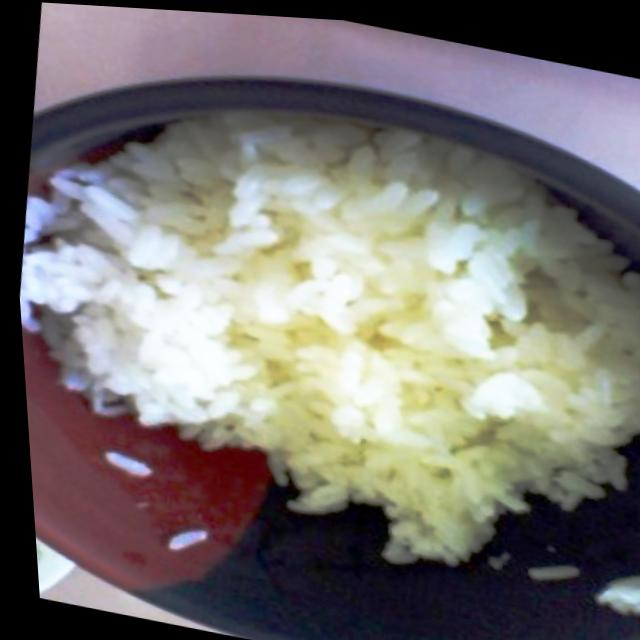rice: (4, 56, 640, 640)
